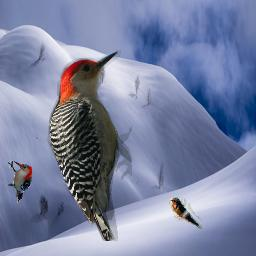Swallow: (169, 197, 202, 229)
Woodpecker: (47, 50, 132, 241), (8, 161, 32, 203)
